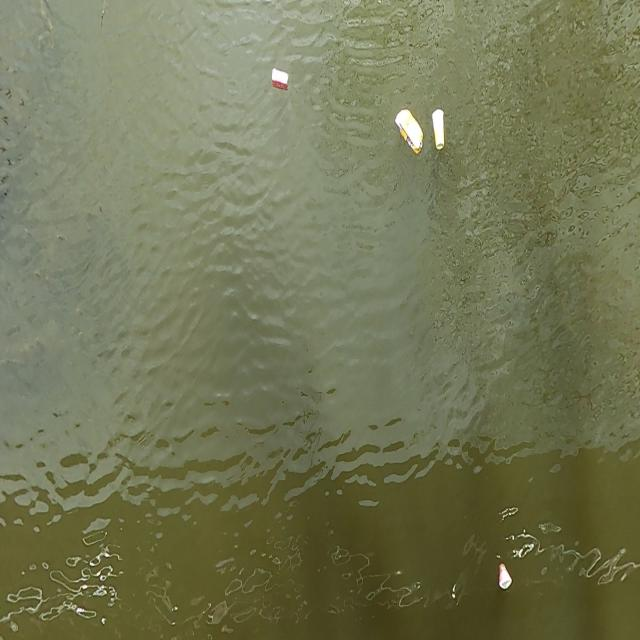Non plastique: (392, 104, 426, 160), (430, 104, 450, 155), (494, 559, 516, 597), (266, 64, 293, 94)
